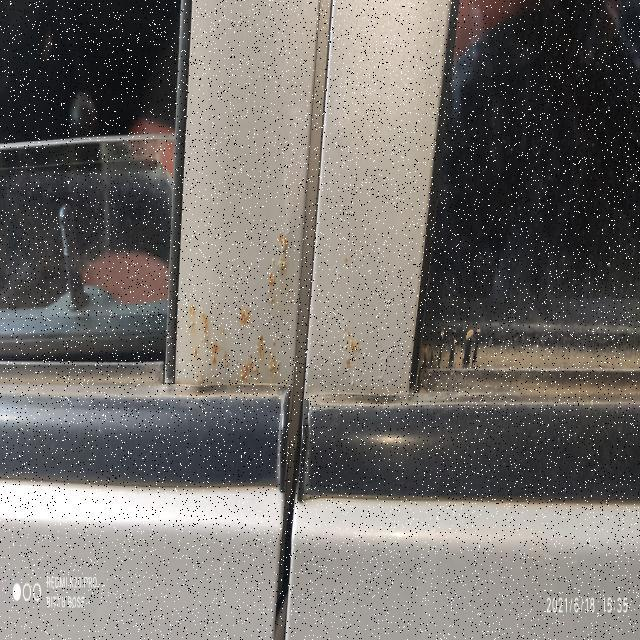pillar-dent: (305, 3, 458, 403), (176, 0, 302, 401)
